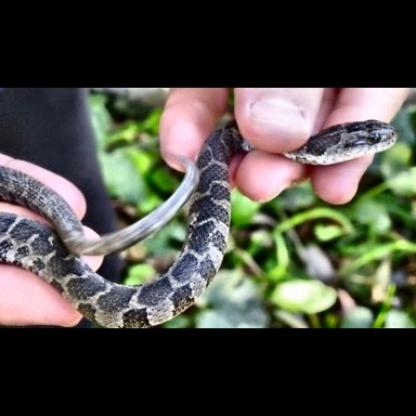Snake: (6, 93, 410, 335), (0, 130, 238, 333), (249, 109, 415, 241)
